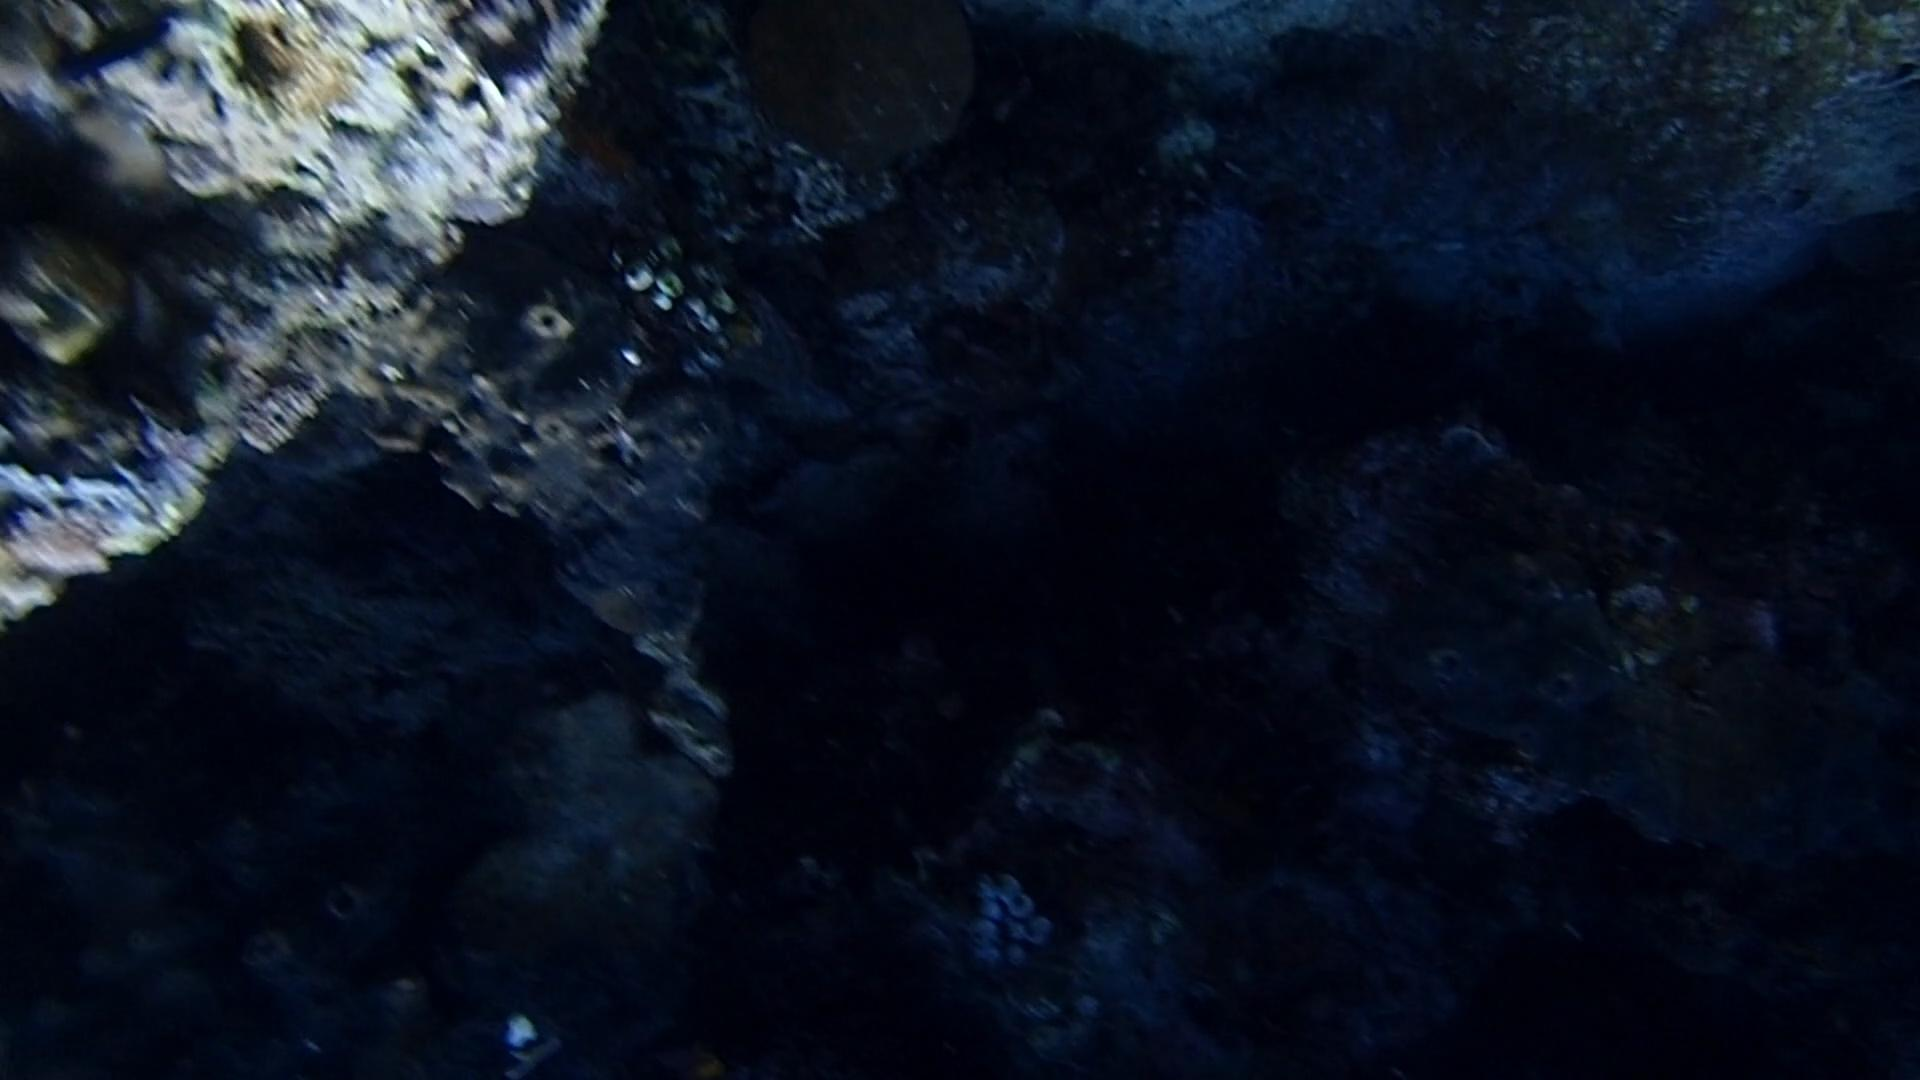Dark Fish: (45, 4, 177, 92)
